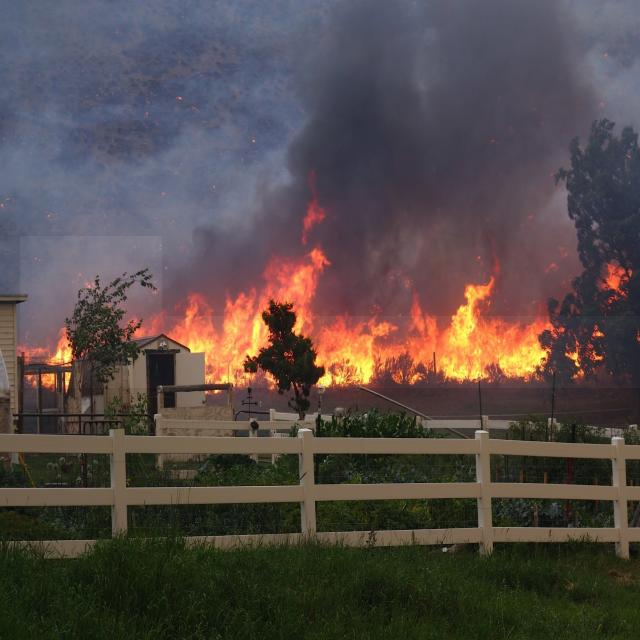Fire: (20, 236, 640, 388)
Smoke: (162, 0, 640, 316)
